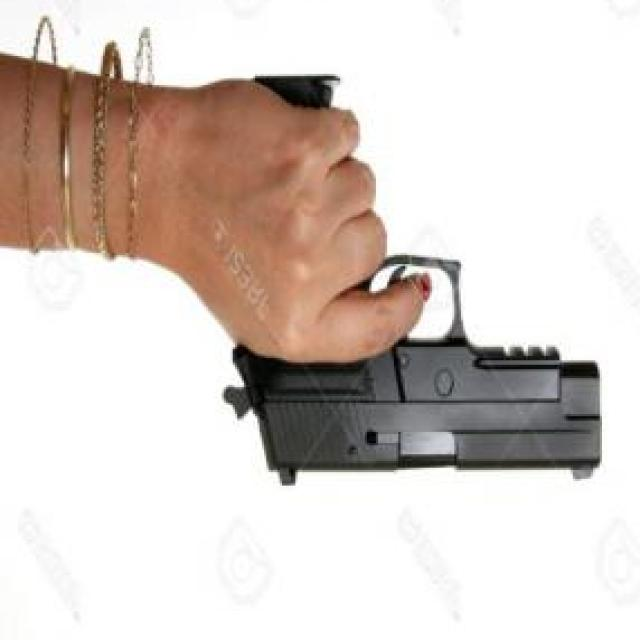pistol: (217, 65, 604, 492)
